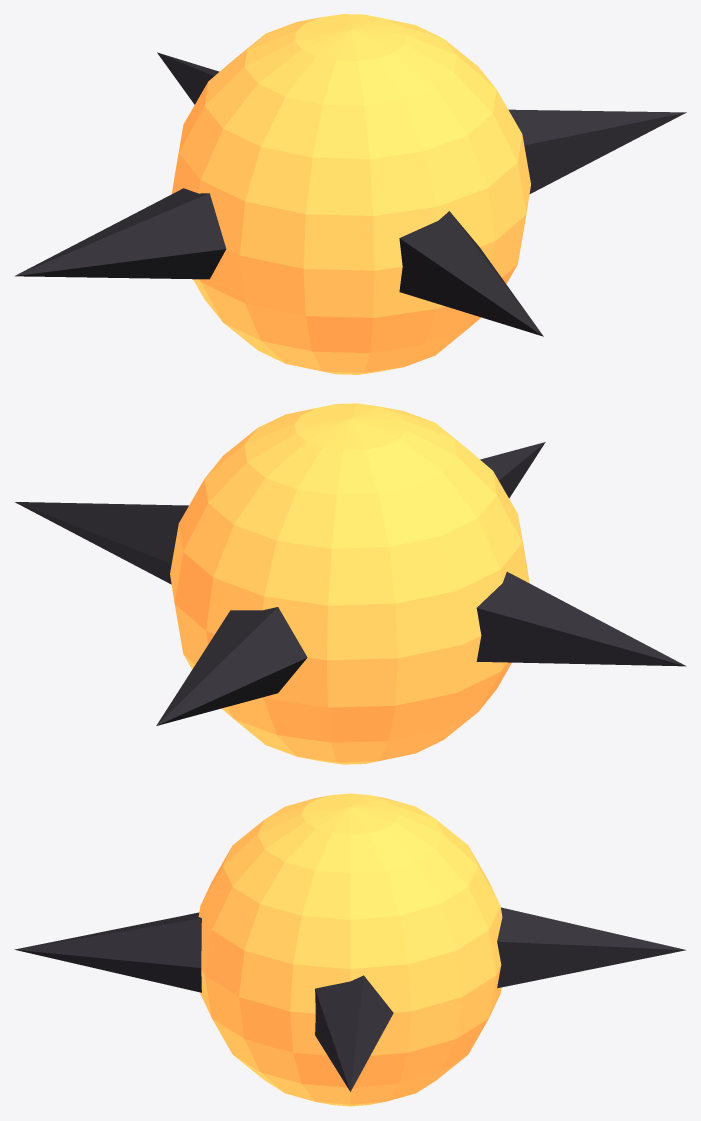
File: star_eater_core.glb
3 renders of one model, top to bottom at view 1: azimuth 30°, elevation 25°; view 2: azimuth 150°, elevation 25°; view 3: azimuth 270°, elevation 25°, orthographic. The views are drawn at different scales.
Visible parts, largest first — view 1: StarEater_Core, StarEater_Spike.002, StarEater_Spike.003, StarEater_Spike, StarEater_Spike.001; view 2: StarEater_Core, StarEater_Spike.002, StarEater_Spike.001, StarEater_Spike, StarEater_Spike.003; view 3: StarEater_Core, StarEater_Spike.003, StarEater_Spike.001, StarEater_Spike.
Part boxes in pixels (x1,y1,x2,y2): StarEater_Core: (172,14,530,374); StarEater_Spike.002: (14,188,226,279); StarEater_Spike.003: (399,211,543,336); StarEater_Spike: (508,109,686,193); StarEater_Spike.001: (157,52,219,104); StarEater_Core: (170,403,529,764); StarEater_Spike.002: (476,571,686,666); StarEater_Spike.001: (156,607,307,725); StarEater_Spike: (15,502,188,584); StarEater_Spike.003: (480,442,545,498); StarEater_Core: (198,793,502,1106); StarEater_Spike.003: (14,912,201,992); StarEater_Spike.001: (497,907,686,988); StarEater_Spike: (315,975,393,1091).
Bounding box in the file's own units: 1.28 × 0.6 × 1.28.
